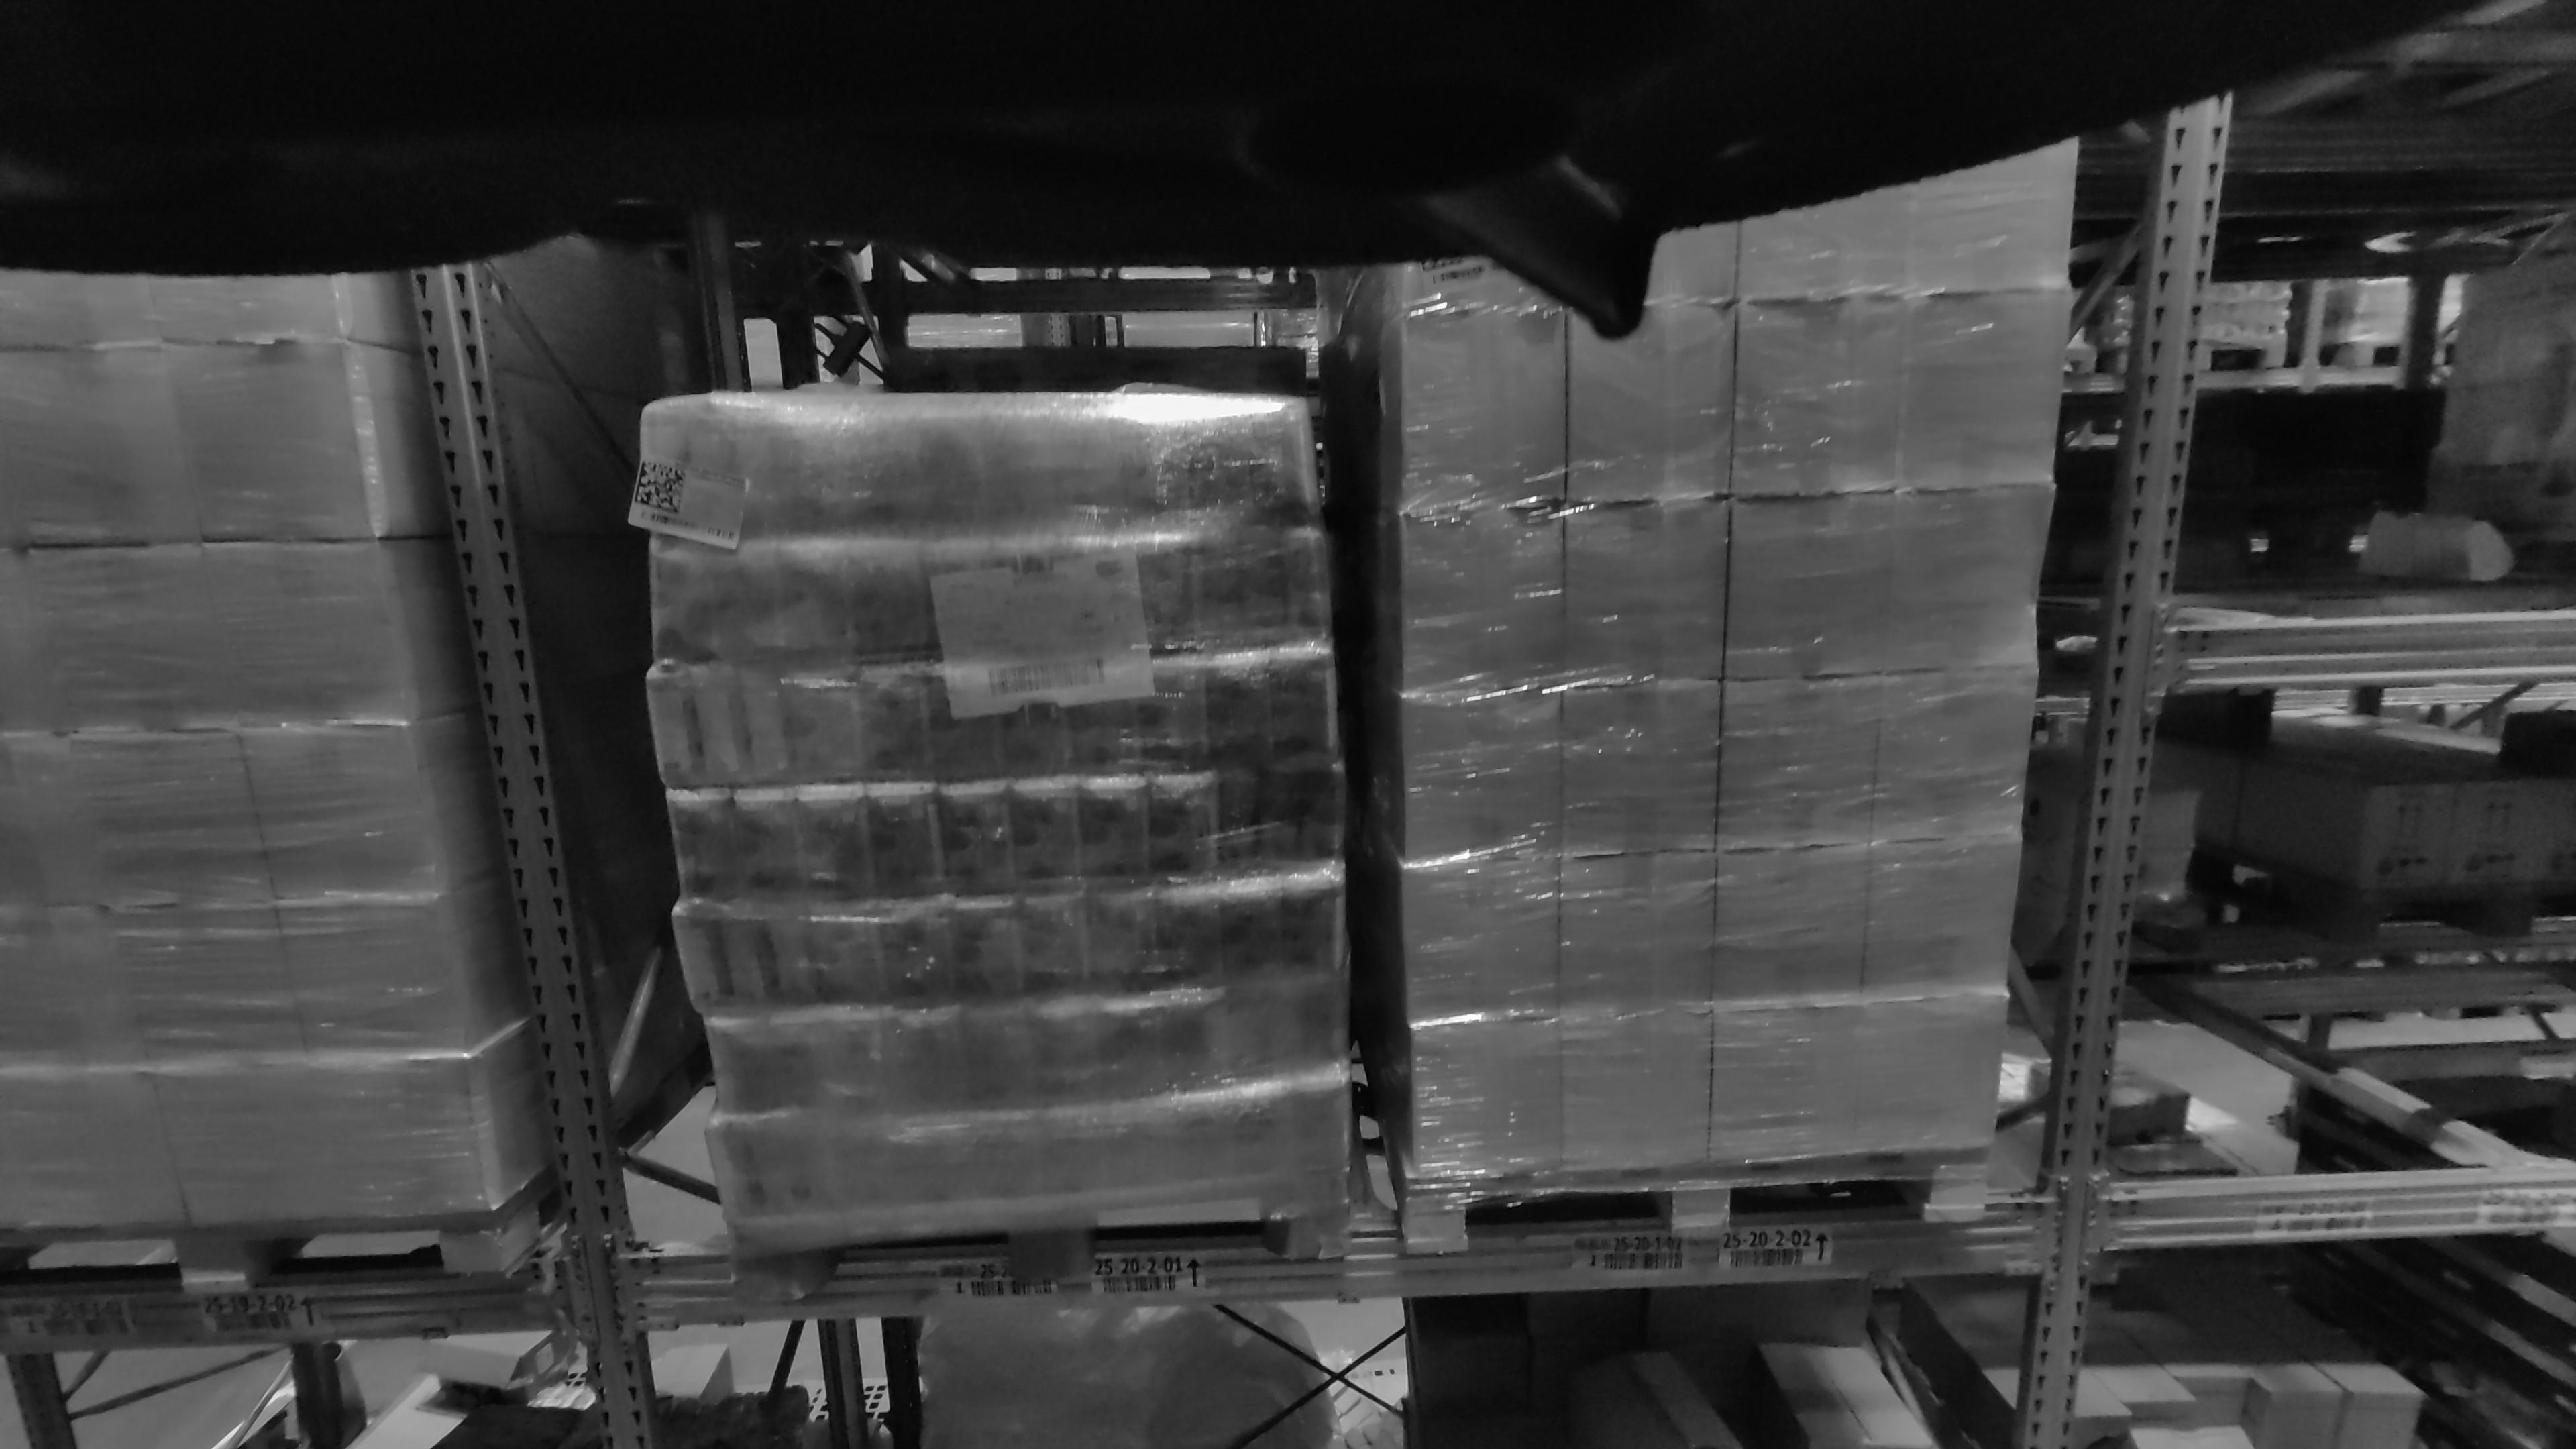empty-shelf: (2127, 701, 2565, 1185), (2204, 170, 2422, 612)
